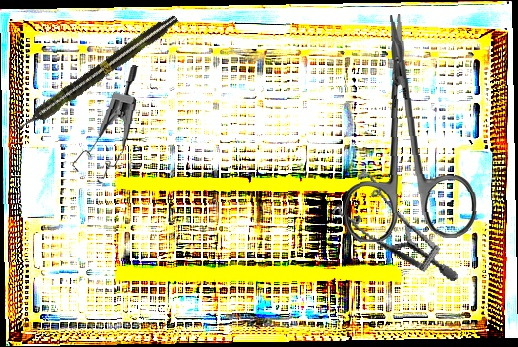Handpiece: (9, 11, 182, 138)
Iris Scissors: (333, 10, 479, 244)
Speculum: (322, 151, 460, 311), (71, 61, 139, 186)
